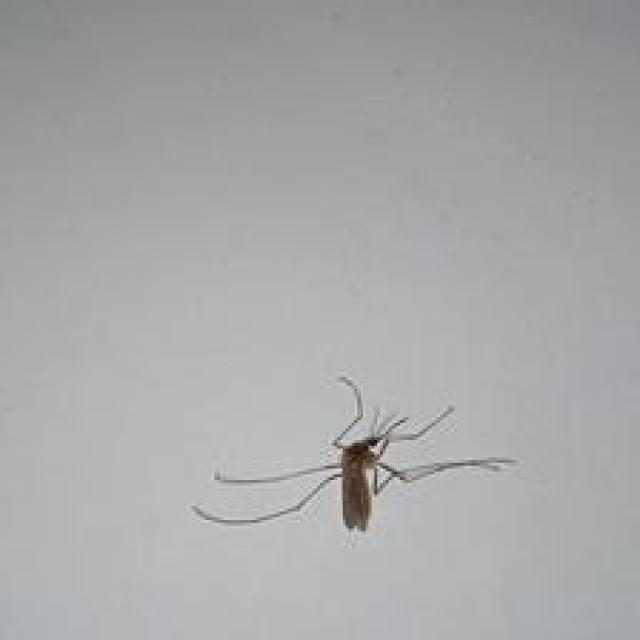Culex: (189, 374, 517, 534)
